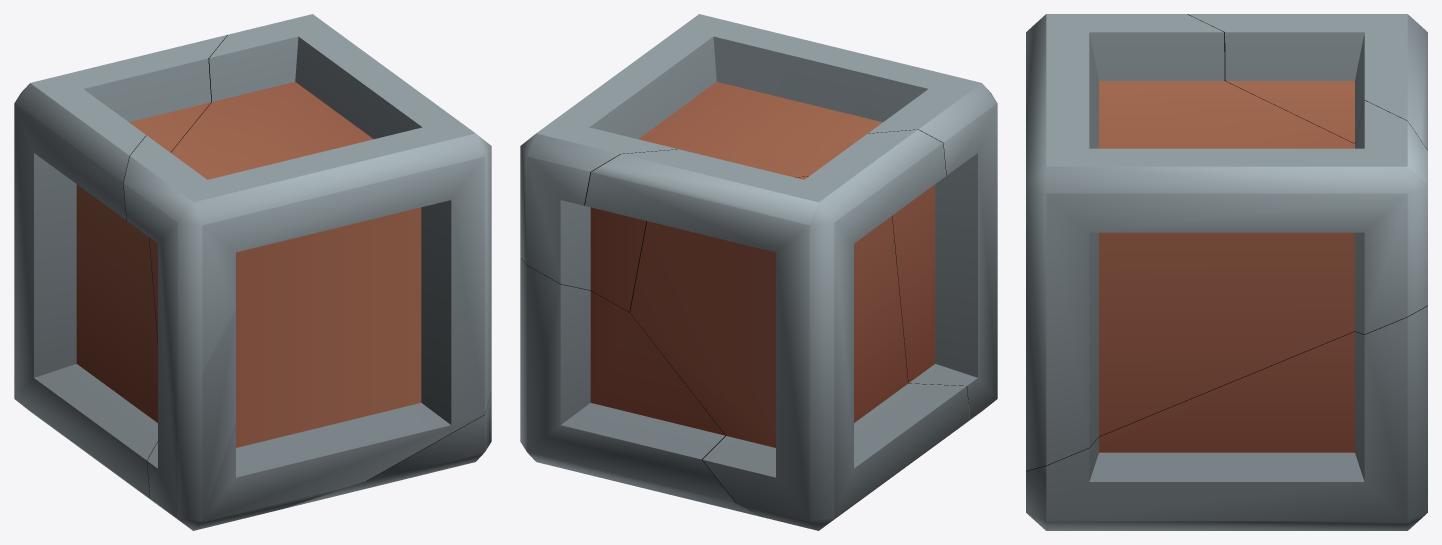
Rendered from Box_Large_Fractured 1.fbx.
3 views of the same model, side by side, from view 1: azimuth 30°, elevation 25°; view 2: azimuth 150°, elevation 25°; view 3: azimuth 270°, elevation 25° (orthographic). The views are drawn at different scales.
Parts seen in each view (by area): view 1: box_large_cell.002, box_large_cell.001, box_large_cell; view 2: box_large_cell.001, box_large_cell.002, box_large_cell; view 3: box_large_cell.002, box_large_cell, box_large_cell.001.
Boxes of the visible parts, x1,y1,x2,y2 form: box_large_cell.002: (123, 14, 491, 530); box_large_cell.001: (14, 34, 227, 505); box_large_cell: (283, 392, 491, 508); box_large_cell.001: (585, 129, 969, 530); box_large_cell.002: (520, 14, 997, 434); box_large_cell: (520, 257, 763, 517); box_large_cell.002: (1026, 14, 1427, 470); box_large_cell: (1026, 305, 1427, 530); box_large_cell.001: (1187, 14, 1427, 150).
Bounding box in the file's own units: 150 × 150 × 150.
